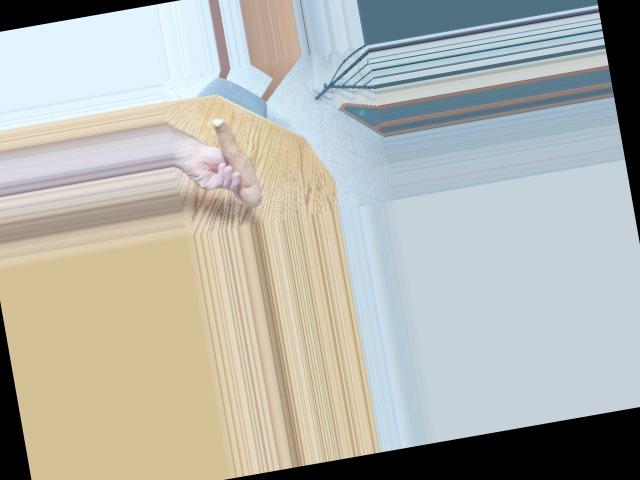sweet_potato: (209, 110, 267, 208)
